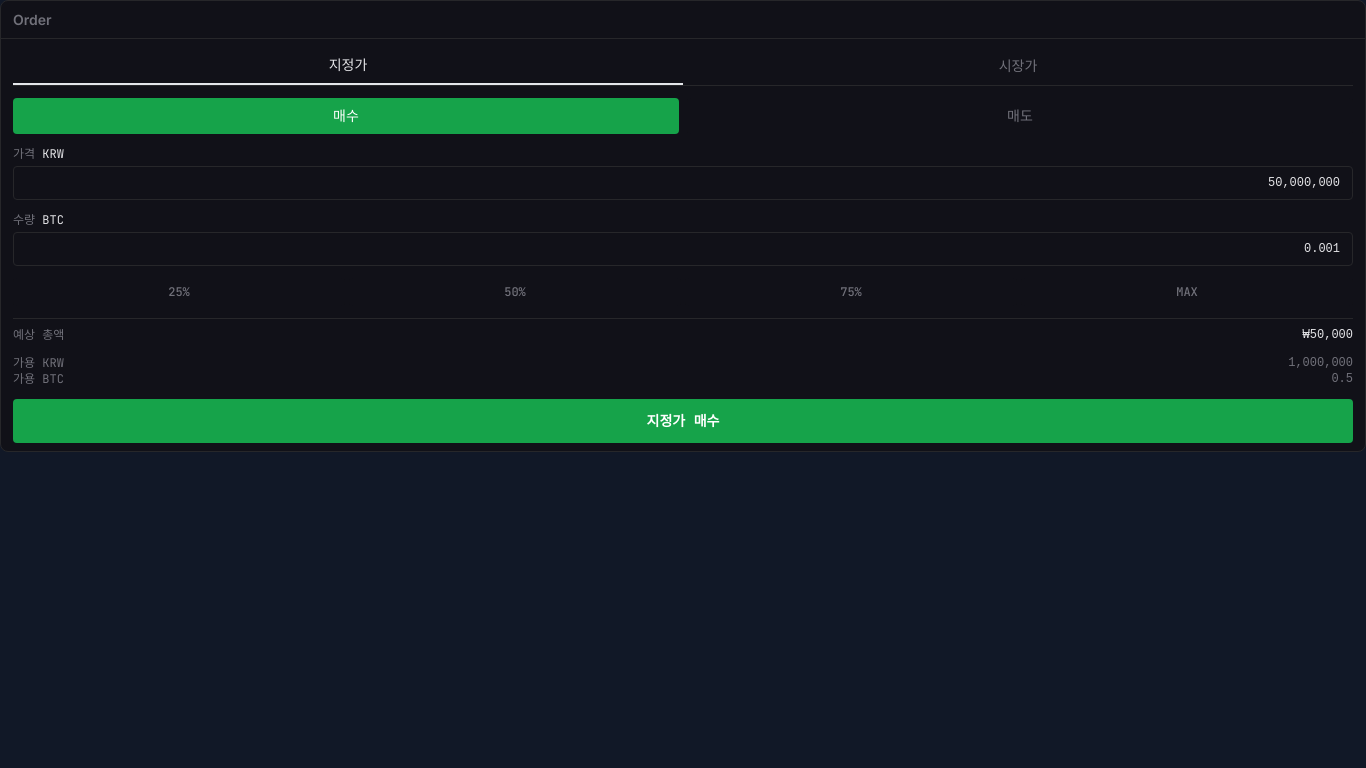
OrderPanel › WTS-3.5: 확인 다이얼로그 취소 시 폼 상태 유지 (AC: #10) › 취소 버튼 클릭 후 폼 입력값이 유지되어야 한다
This screenshot has width=1366, height=768.
Note: 주문 버튼 클릭하여 다이얼로그 표시
Step 1. Click the button with test id "order-submit-btn" → (683, 421), box [13, 399, 1353, 443]
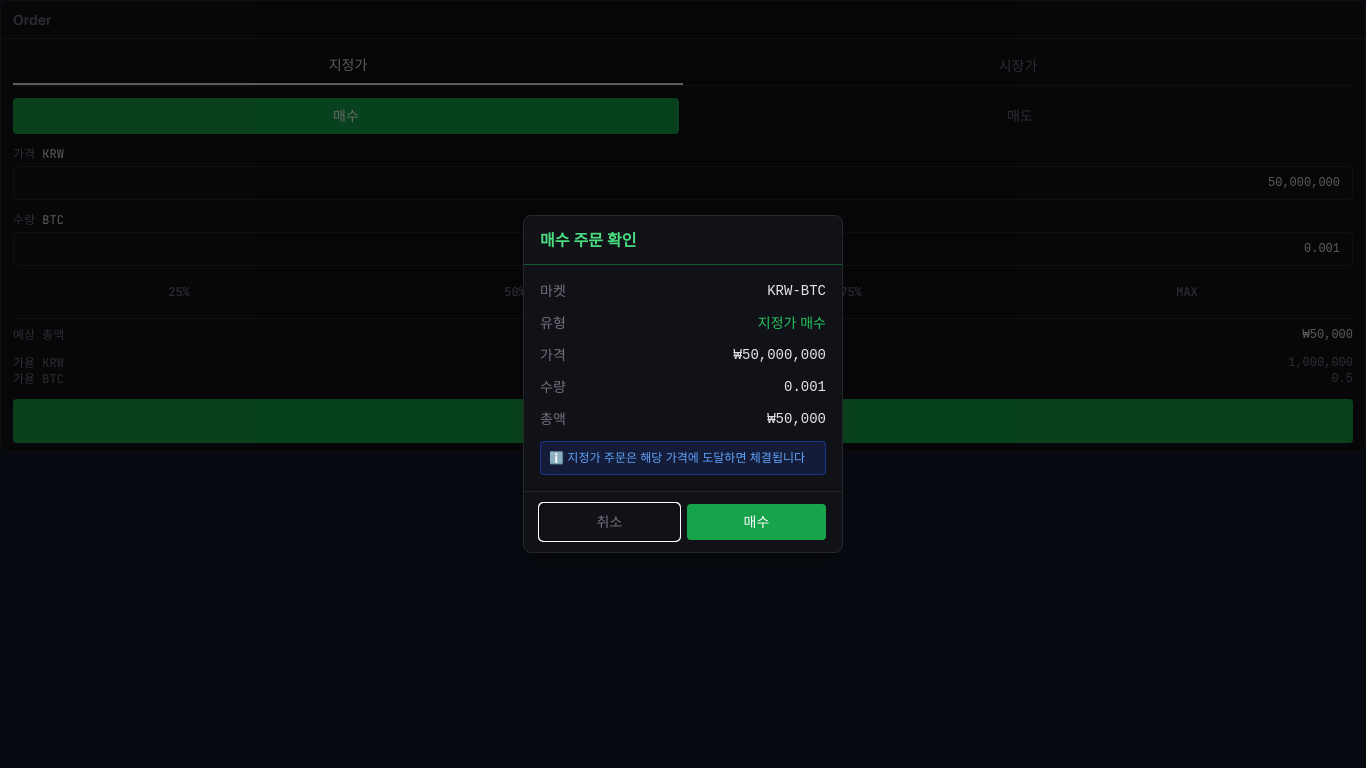
Now the dialog is shown, box [523, 215, 843, 553]
Note: 취소 버튼 클릭
Step 2. Click the button "취소" → (610, 522), box [540, 504, 679, 540]
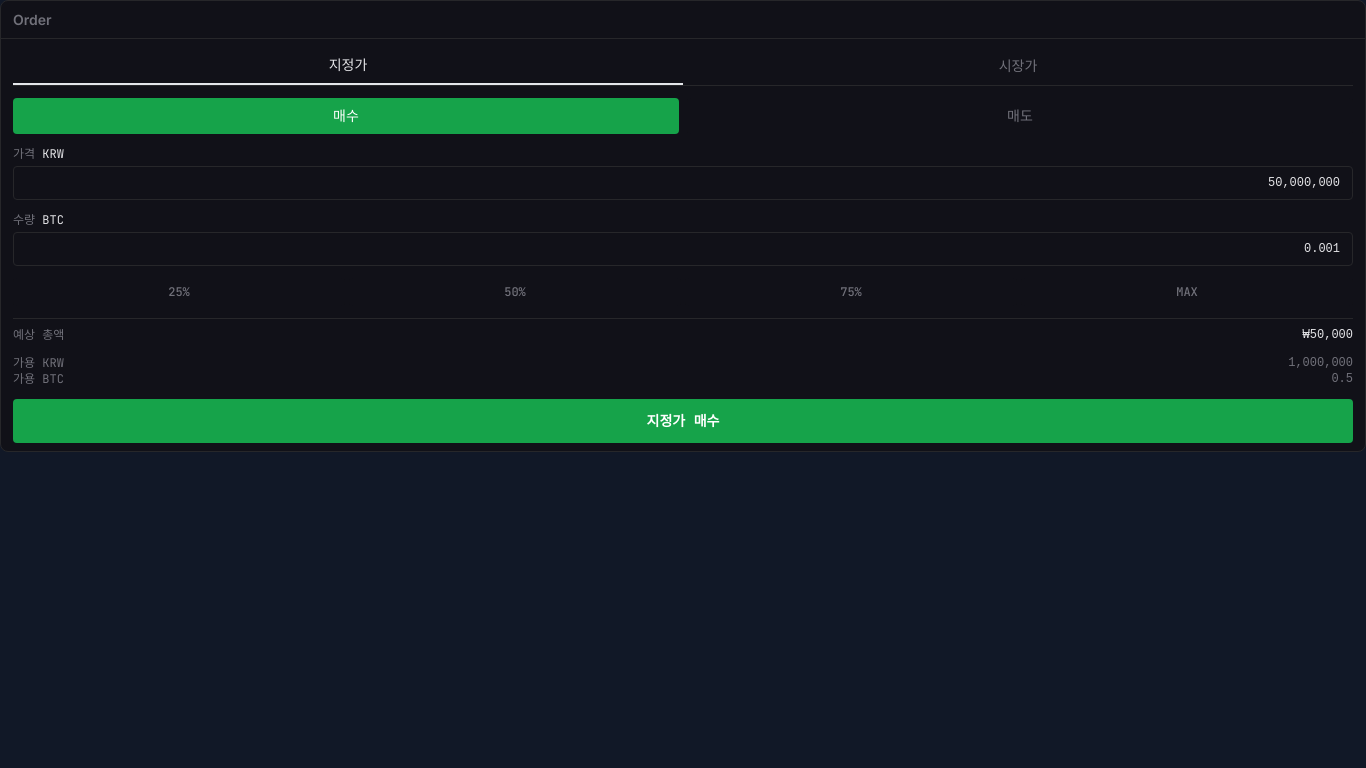
Now the dialog is gone
